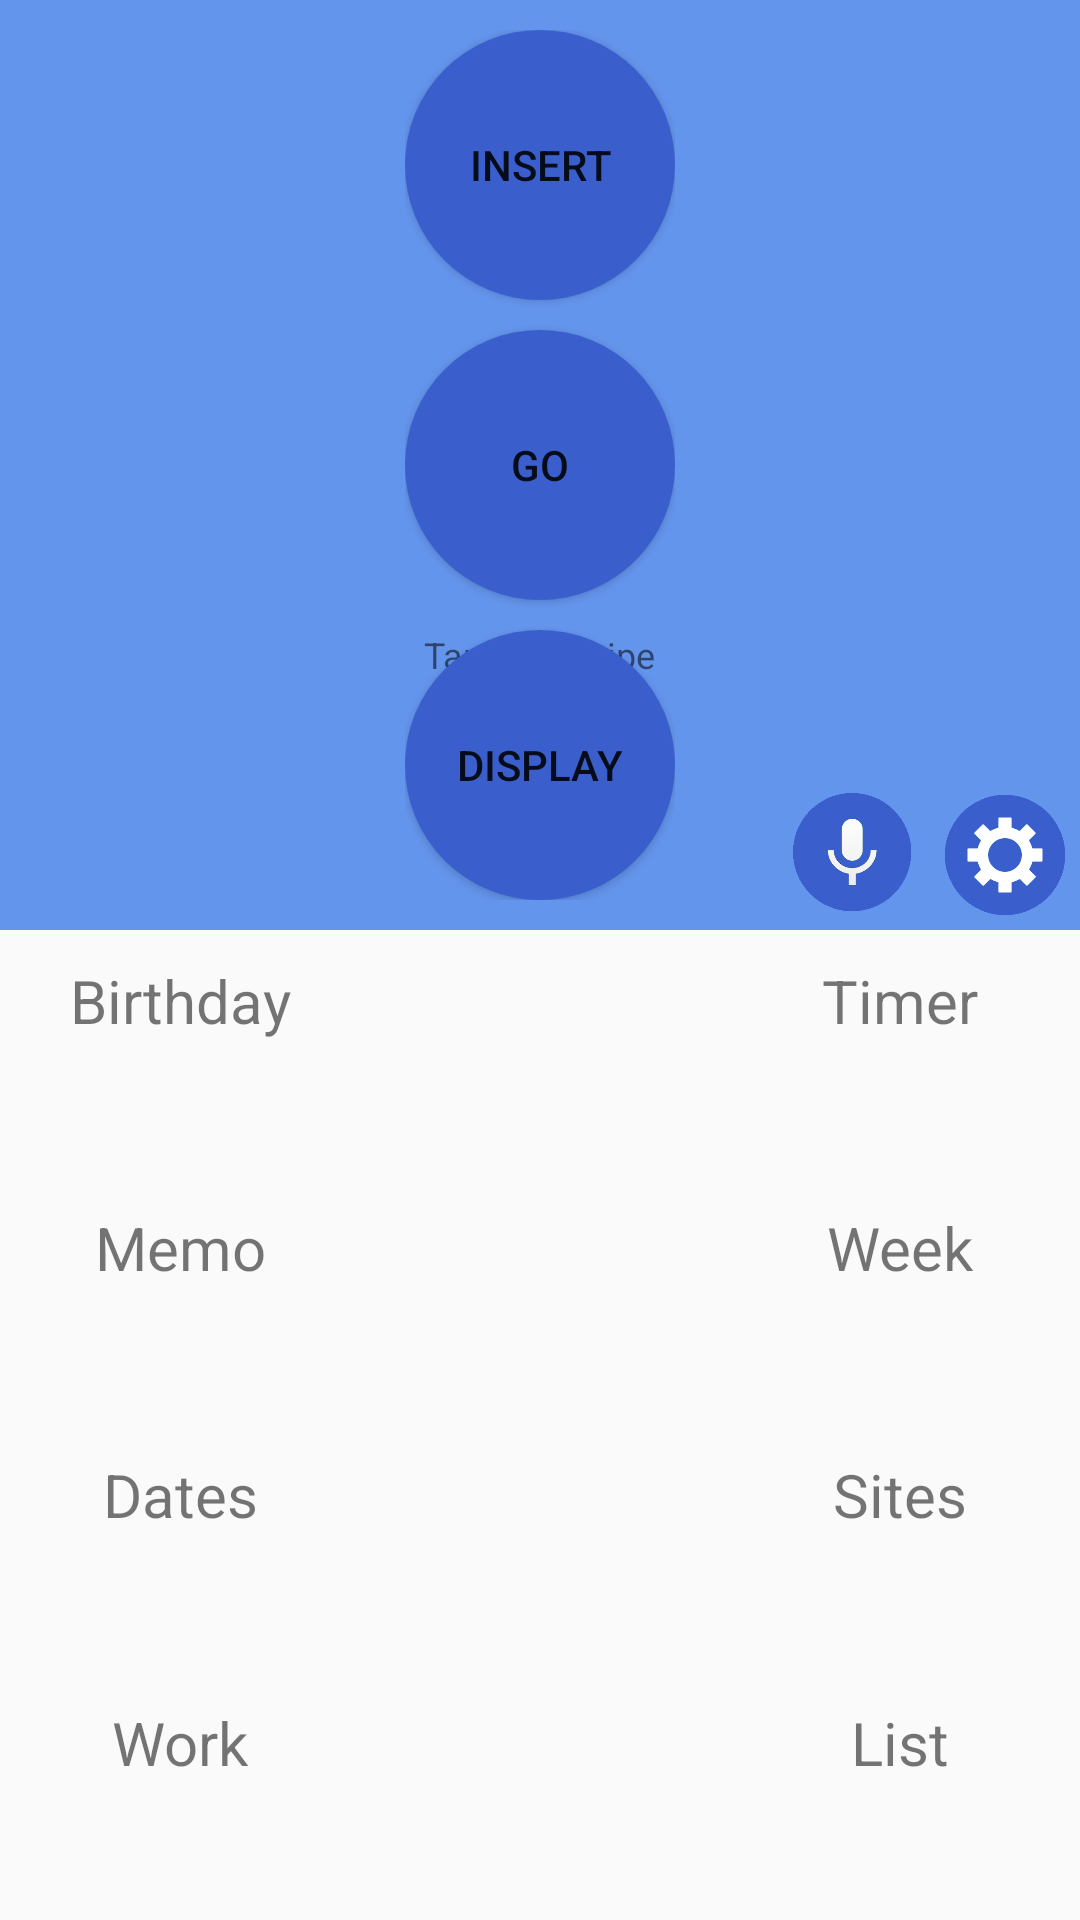

Screen size 1080x1920. Icon name, then its center in pixels as [x,y]:
setting: [1005,855]
voice: [852,852]
